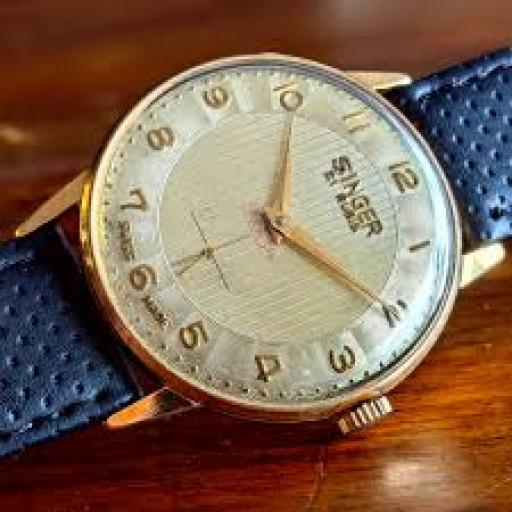KolSaati: (2, 0, 505, 512)
